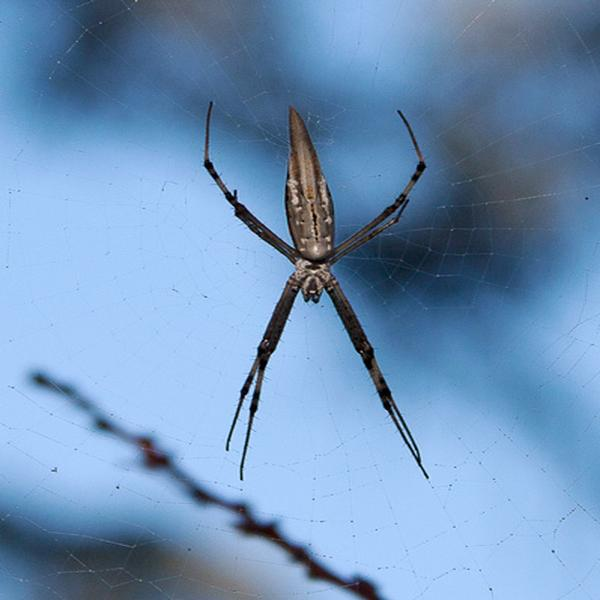St Andrew's Cross Spider: (202, 101, 434, 481)
